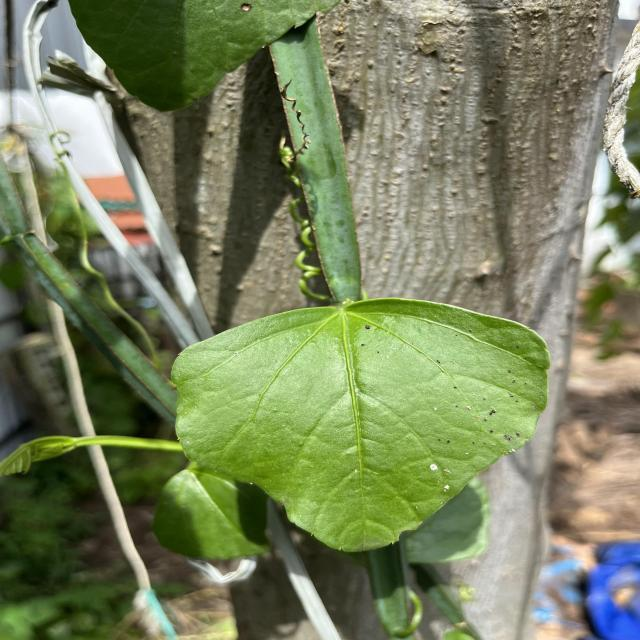Cissus quadrangularis: (167, 294, 556, 560)
